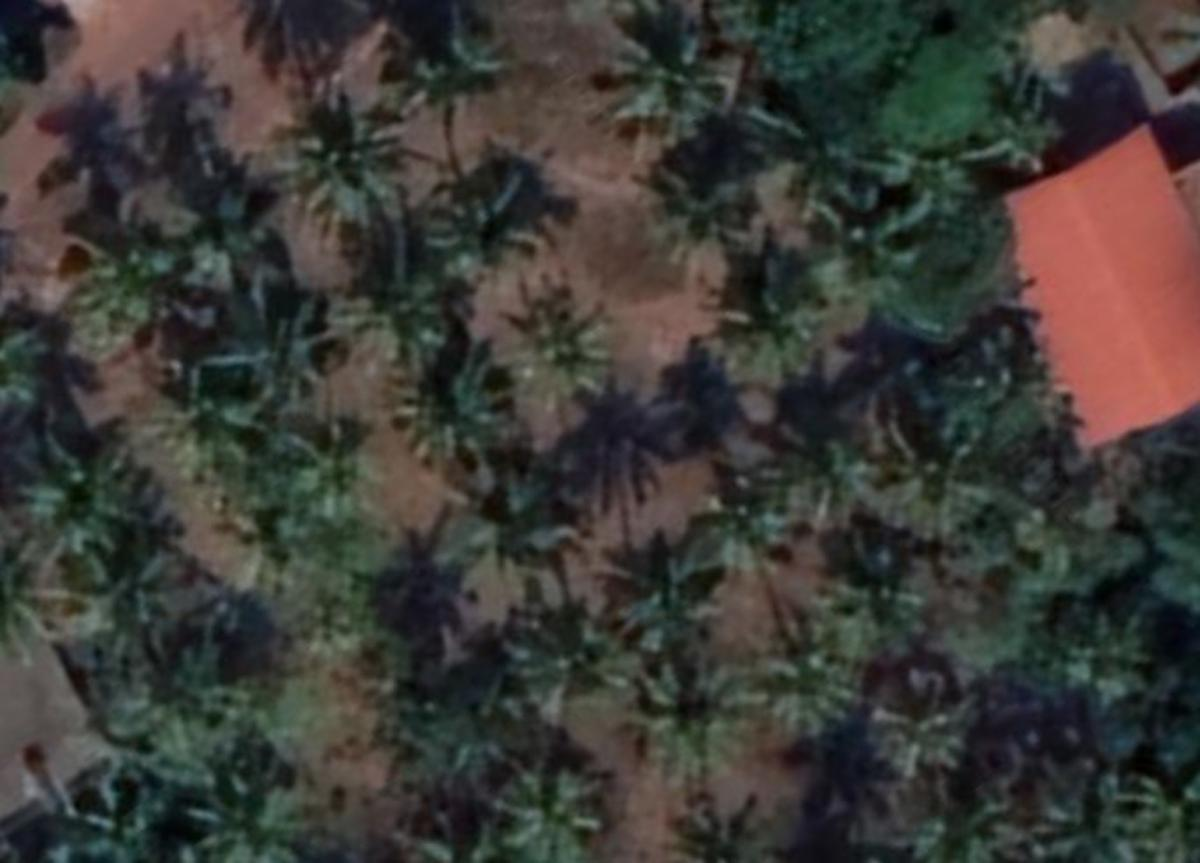coconut: (715, 268, 855, 406), (289, 105, 437, 228), (639, 149, 781, 274), (19, 441, 144, 578), (418, 166, 548, 288), (607, 35, 746, 149), (816, 181, 945, 293), (265, 413, 391, 527), (395, 358, 528, 462), (491, 599, 616, 708), (498, 750, 616, 861), (685, 481, 808, 585), (507, 300, 621, 411), (637, 664, 750, 775), (822, 537, 936, 643), (189, 773, 323, 863), (390, 5, 497, 117), (152, 365, 254, 479), (453, 460, 567, 562), (224, 300, 321, 407), (873, 671, 976, 769), (616, 550, 709, 643), (767, 638, 855, 731)
